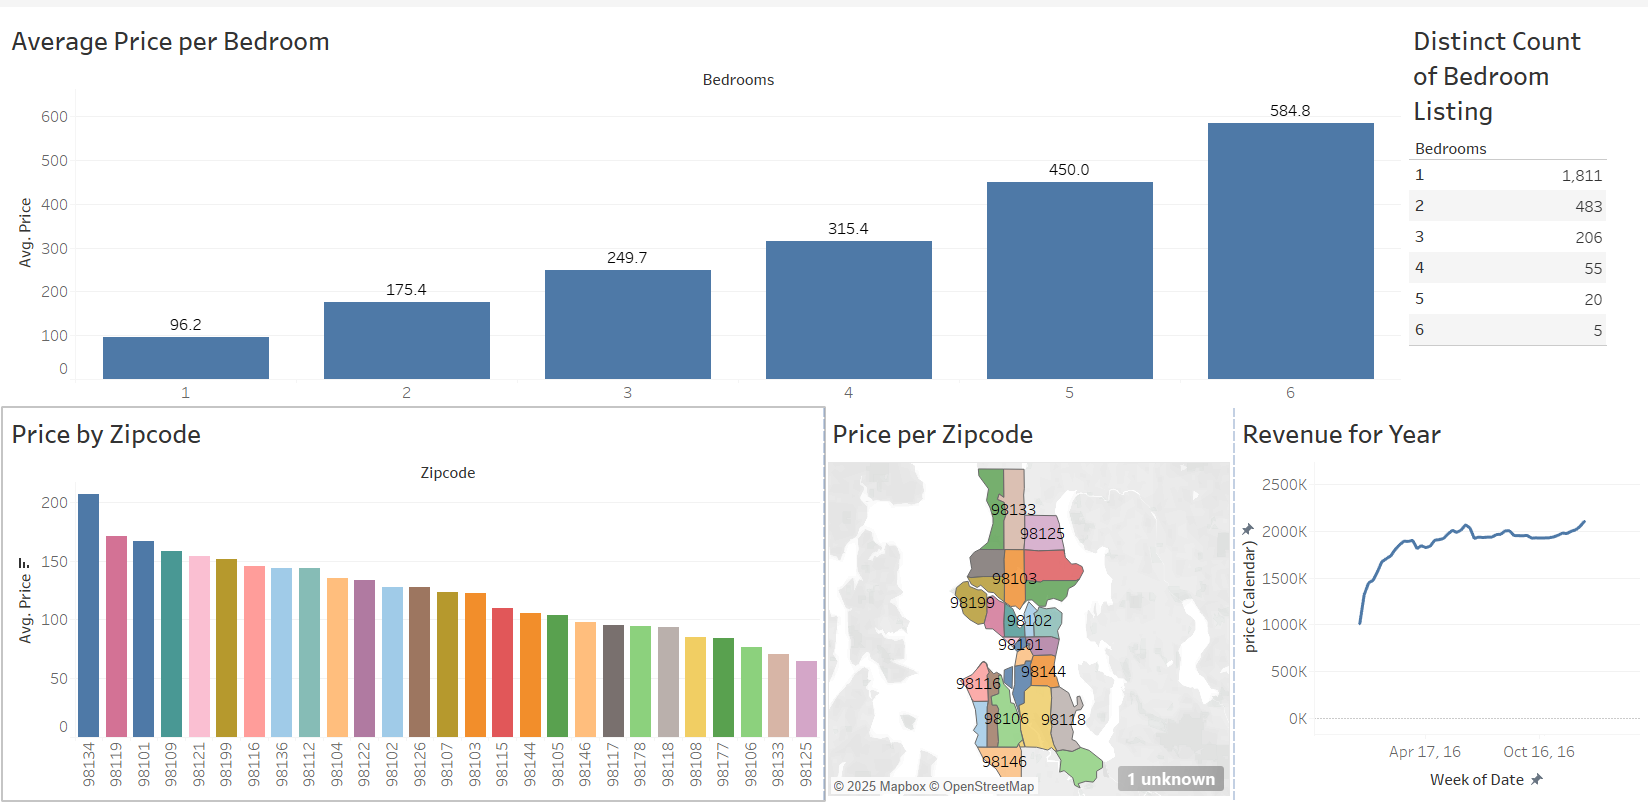

Layout of this report page (visuals, bound fields, positions):
{"tool":"tableau","page":{"name":"Dashboard 1","canvas":[1000,1000],"units":"permille","ordinal":0},"visuals":[{"type":"worksheet","title":"Sheet 4","mark":"Automatic","rows":["price"],"cols":["bedrooms"],"box":[4.8,10,846.1,490]},{"type":"worksheet","title":"Sheet 5","mark":"Automatic","rows":["bedrooms"],"box":[850.9,10,144.2,490]},{"type":"worksheet","title":"Sheet 1","mark":"Automatic","rows":["price"],"cols":["zipcode"],"box":[4.8,500,495.2,490]},{"type":"worksheet","title":"Sheet 2","mark":"Multipolygon","box":[500,500,247.6,490]},{"type":"worksheet","title":"Sheet 3","mark":"Automatic","rows":["price (Calendar)"],"cols":["date"],"box":[747.6,500,247.6,490]}]}

Visuals, with their boxes on the dashboard's canvas, which has no fixed pixel size, in thousandths of its width and height (x1, y1, x2, y2). These are canvas units, not pixel positions in the 1648x807 screenshot, which may show the page scaled, cropped or inside an application window:
"Sheet 4" worksheet: BBox(5, 10, 851, 500)
"Sheet 5" worksheet: BBox(851, 10, 995, 500)
"Sheet 1" worksheet: BBox(5, 500, 500, 990)
"Sheet 2" worksheet (Multipolygon marks): BBox(500, 500, 748, 990)
"Sheet 3" worksheet: BBox(748, 500, 995, 990)
